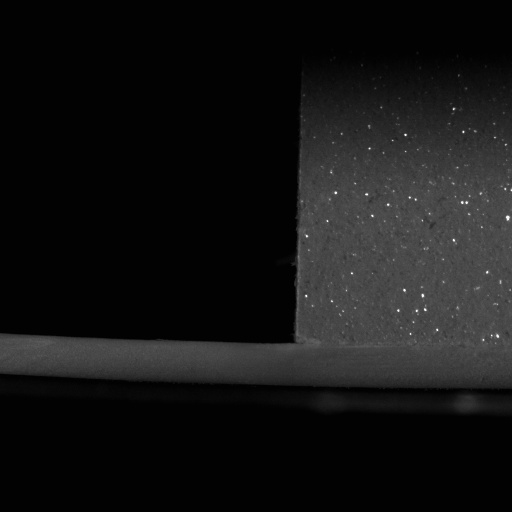changdai: (0, 333, 294, 387)
